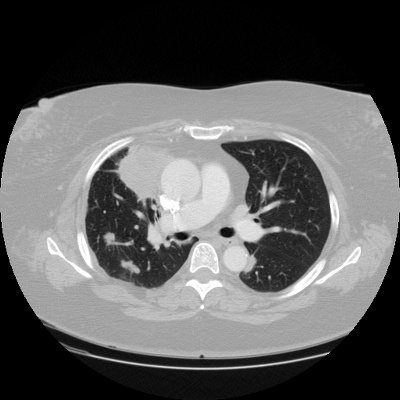PN: (103, 231, 115, 243)
